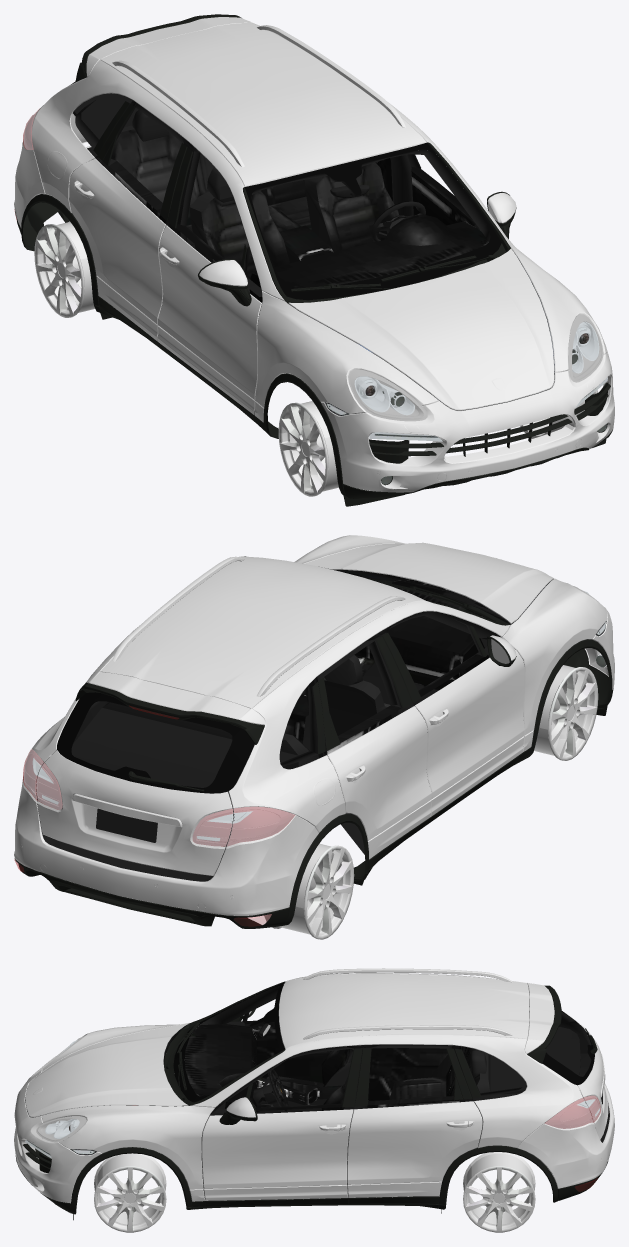
File: cayenne.glb
The picture shows the model from 3 angles, top to bottom: view 1: azimuth 30°, elevation 25°; view 2: azimuth 150°, elevation 25°; view 3: azimuth 270°, elevation 25°; orthographic projection. The views are drawn at different scales.
Parts seen in each view (by area): view 1: Cayenne:lod11, Cayenne:lod14, Cayenne:lod16, Cayenne:lod12, Cayenne:lod10, Cayenne:lod15; view 2: Cayenne:lod11, Cayenne:lod14, Cayenne:lod16, Cayenne:lod12, Cayenne:lod10, Cayenne:lod15, Cayenne:lod0, Cayenne:lod13; view 3: Cayenne:lod11, Cayenne:lod14, Cayenne:lod16, Cayenne:lod12, Cayenne:lod10, Cayenne:lod15, Cayenne:lod0.
Boxes of the visible parts, bbox=[...] form: Cayenne:lod11: bbox=[14, 17, 614, 492]; Cayenne:lod14: bbox=[69, 93, 554, 415]; Cayenne:lod16: bbox=[15, 14, 612, 506]; Cayenne:lod12: bbox=[34, 222, 597, 496]; Cayenne:lod10: bbox=[23, 111, 607, 484]; Cayenne:lod15: bbox=[71, 81, 501, 300]; Cayenne:lod11: bbox=[14, 535, 614, 915]; Cayenne:lod14: bbox=[36, 569, 553, 881]; Cayenne:lod16: bbox=[14, 556, 613, 928]; Cayenne:lod12: bbox=[264, 665, 598, 939]; Cayenne:lod10: bbox=[23, 585, 606, 846]; Cayenne:lod15: bbox=[57, 568, 509, 793]; Cayenne:lod0: bbox=[14, 706, 294, 926]; Cayenne:lod13: bbox=[96, 808, 157, 842]; Cayenne:lod11: bbox=[14, 968, 614, 1203]; Cayenne:lod14: bbox=[25, 985, 609, 1200]; Cayenne:lod16: bbox=[15, 981, 608, 1220]; Cayenne:lod12: bbox=[94, 1152, 535, 1232]; Cayenne:lod10: bbox=[24, 1035, 600, 1158]; Cayenne:lod15: bbox=[173, 982, 594, 1102]; Cayenne:lod0: bbox=[545, 1096, 600, 1191].
Size of what is drawn, in the model's own units: 0.023 by 0.0171 by 0.0505.
9 materials, 4 textured.
